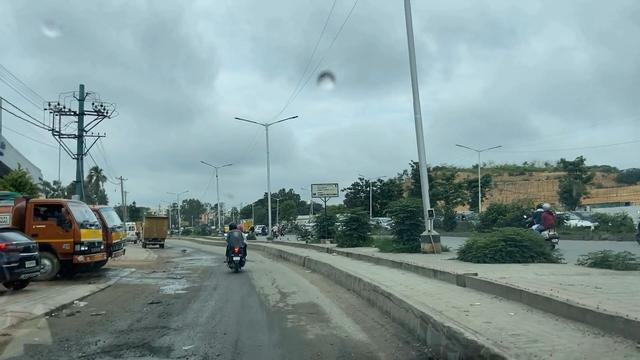RoadDamages: (70, 334, 182, 360), (121, 296, 181, 336)
